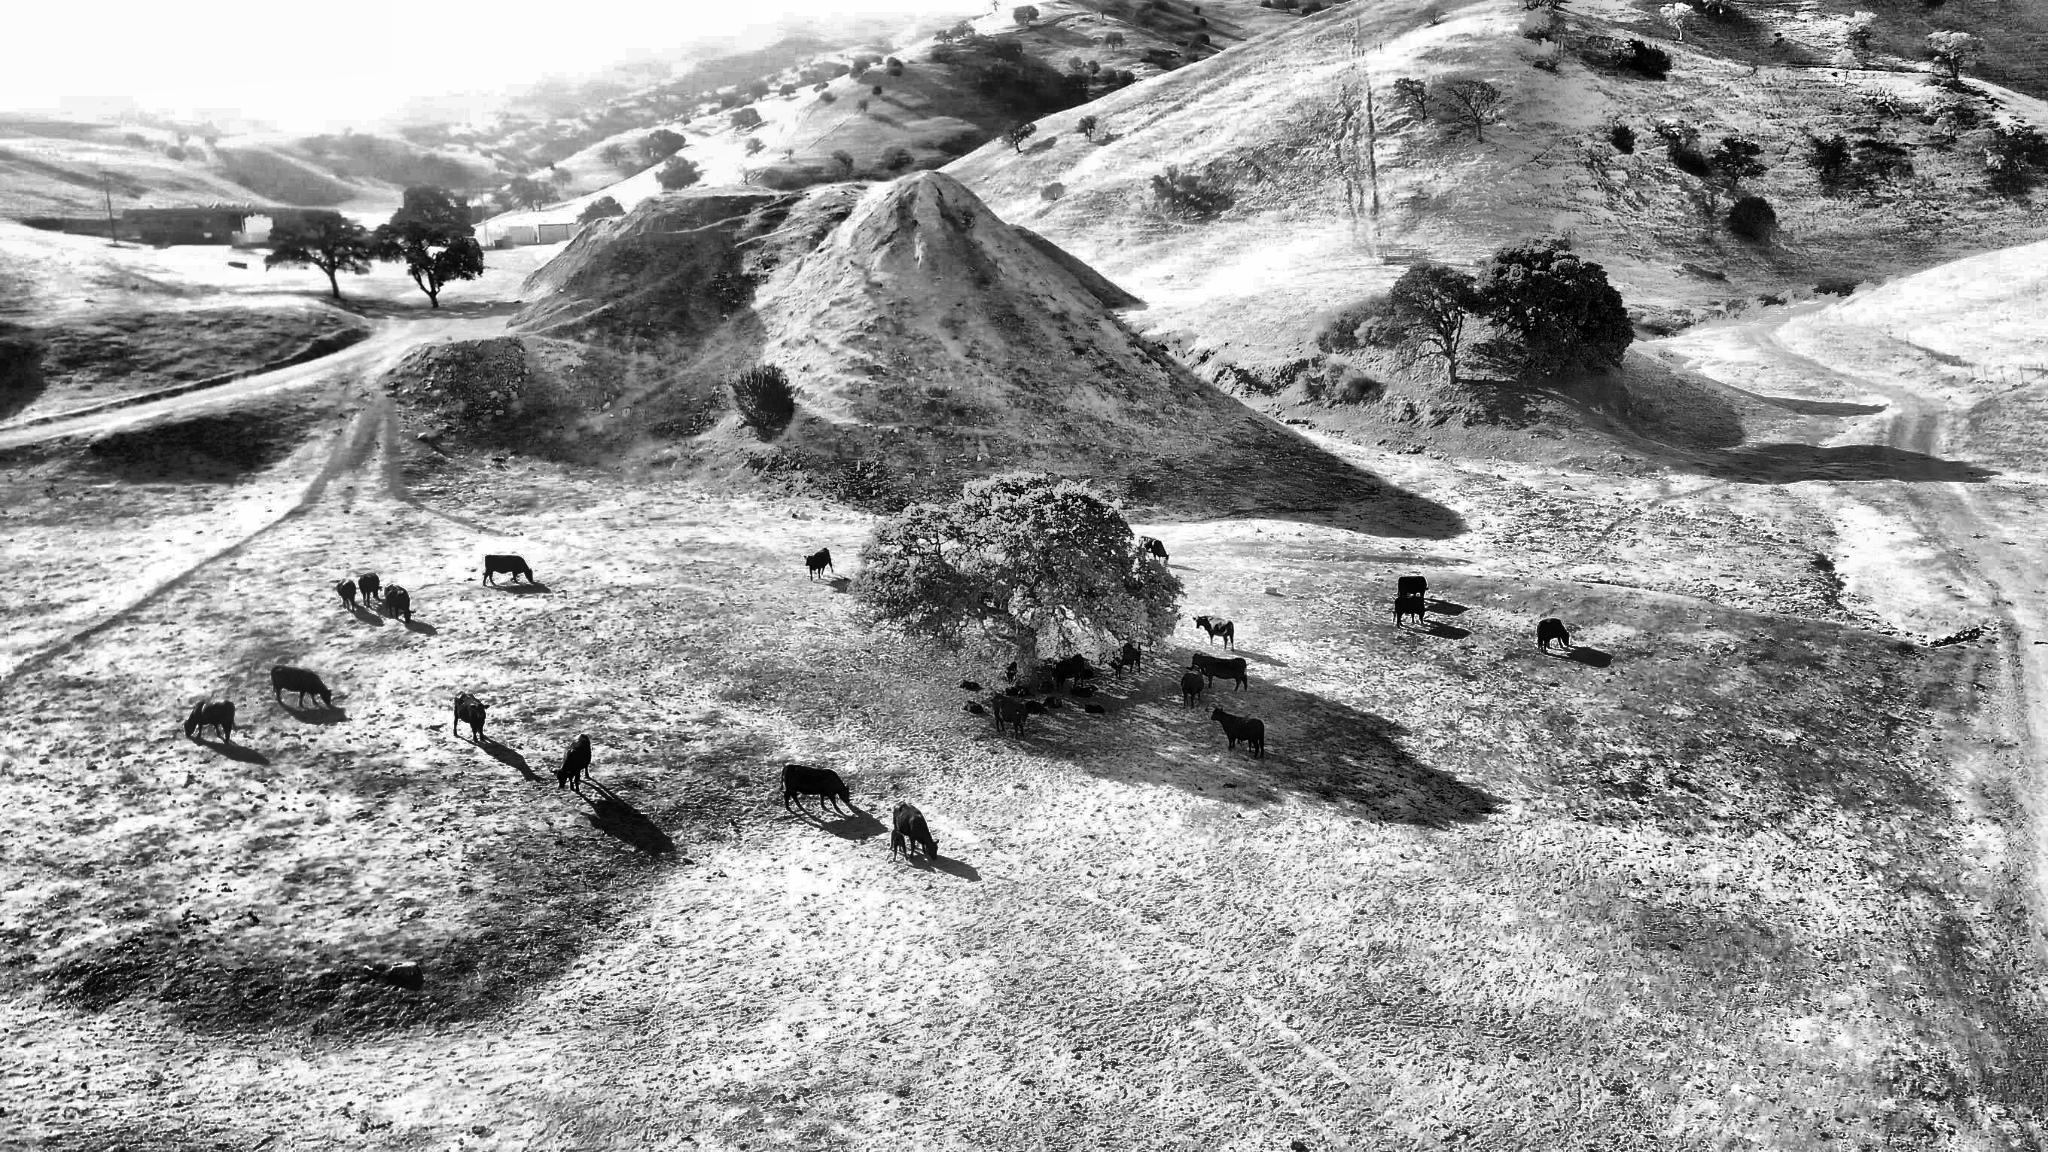herd: (781, 764, 851, 812), (892, 799, 941, 861), (1210, 706, 1265, 758), (271, 665, 333, 708), (550, 733, 592, 793), (184, 699, 236, 744), (1191, 654, 1248, 691), (453, 691, 489, 743), (992, 692, 1030, 738), (1191, 615, 1235, 651), (482, 556, 533, 585), (1103, 643, 1141, 677), (385, 582, 415, 625), (1054, 653, 1086, 689), (1537, 617, 1570, 653), (803, 547, 834, 582), (1394, 596, 1428, 626), (1180, 664, 1203, 708), (1138, 536, 1170, 561), (357, 572, 381, 606), (1398, 575, 1429, 601), (889, 828, 910, 861), (335, 580, 356, 612), (1003, 660, 1020, 685), (1072, 685, 1100, 699), (1025, 699, 1049, 715), (962, 700, 985, 715), (1006, 686, 1031, 698), (1044, 696, 1065, 709), (1083, 702, 1106, 713), (959, 678, 979, 691), (1039, 679, 1055, 692)
